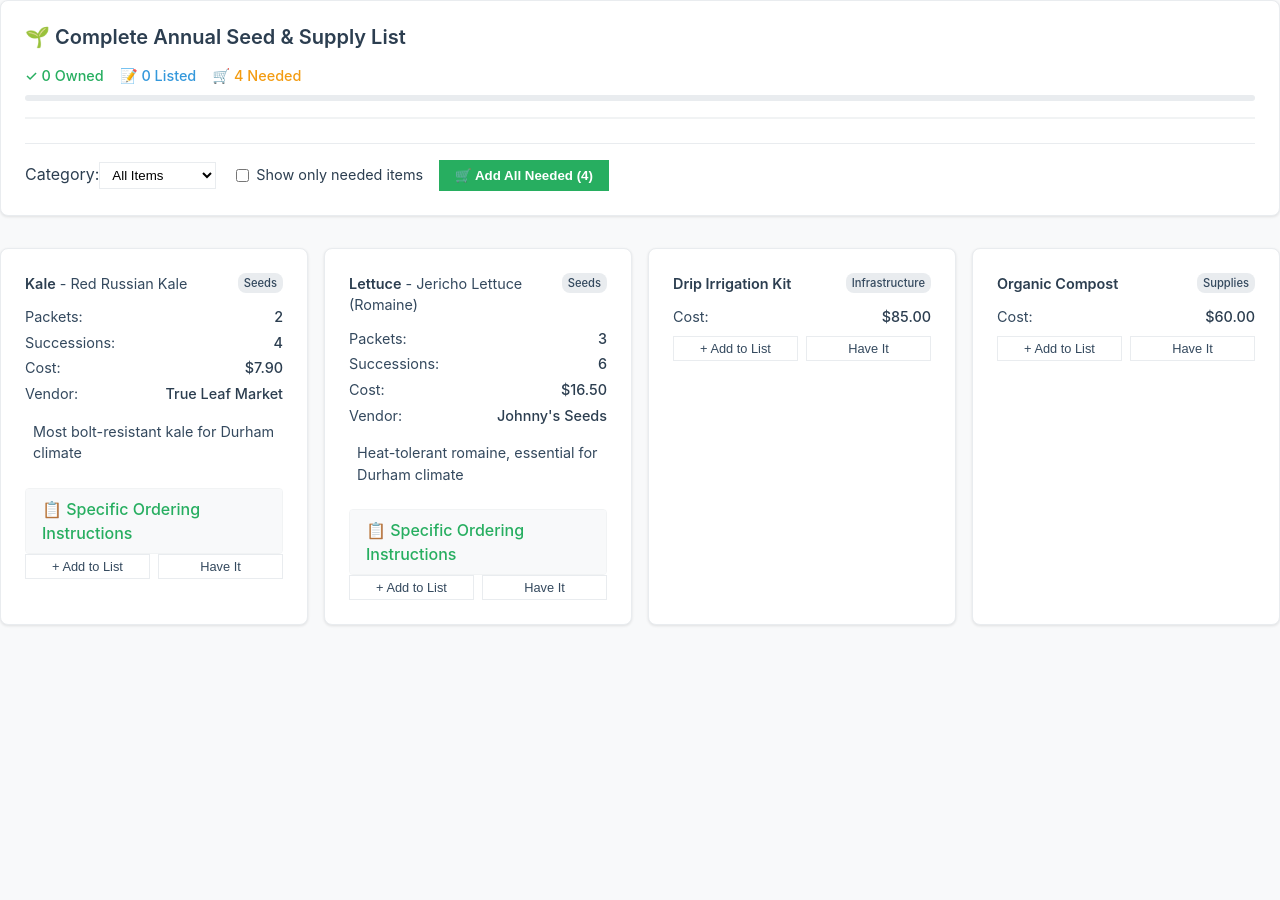
Test: AnnualSeedPlanPanel › No Items State › shows appropriate message when no items match filters
Note: Filter to category with no items
Select "Perennials" in the dropdown showing "All Items" at coordinates (158, 175), box top-left (99, 162), bottom-right (216, 189)
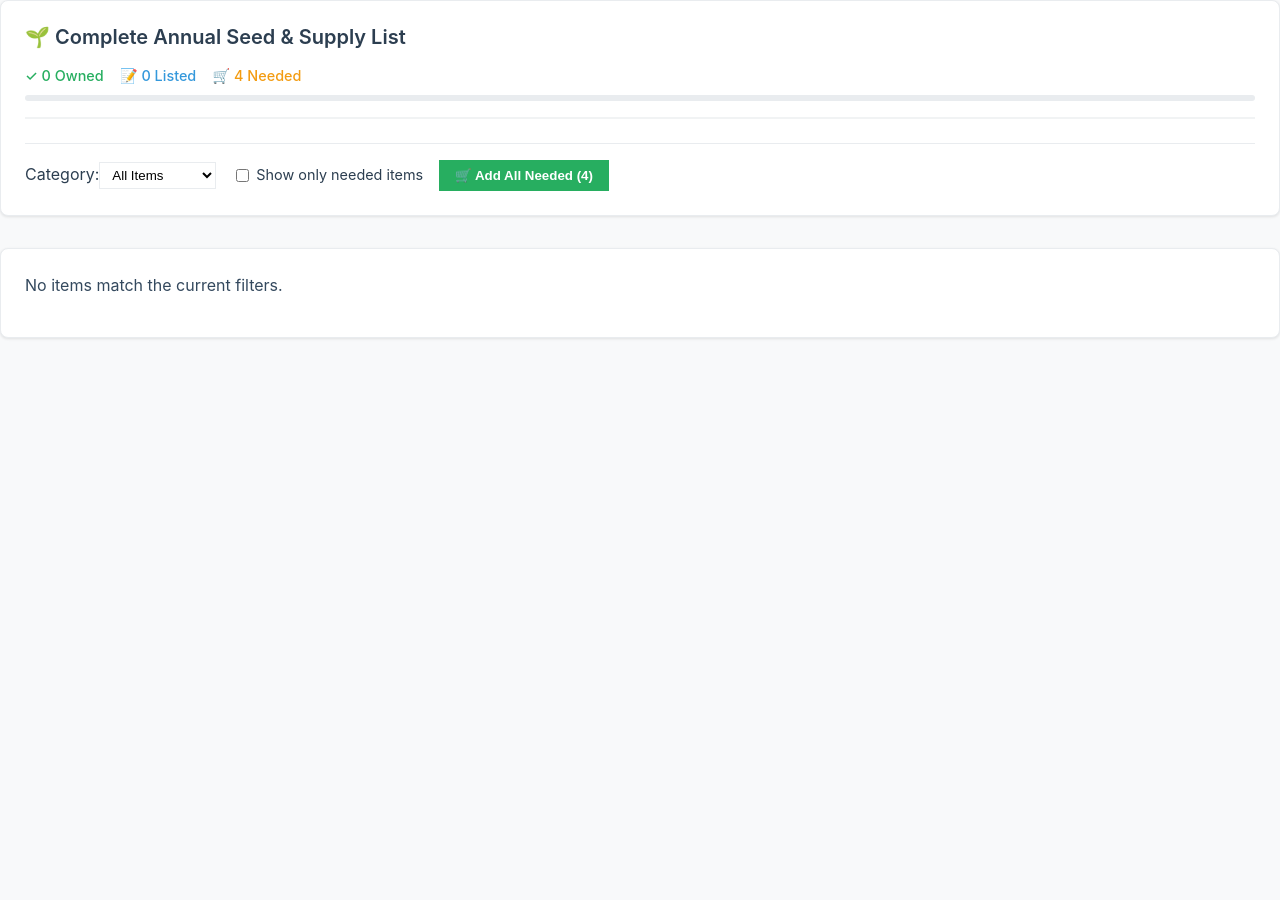
Result: the text "No items match the current filters." is shown at top-left (25, 275), bottom-right (283, 295)
